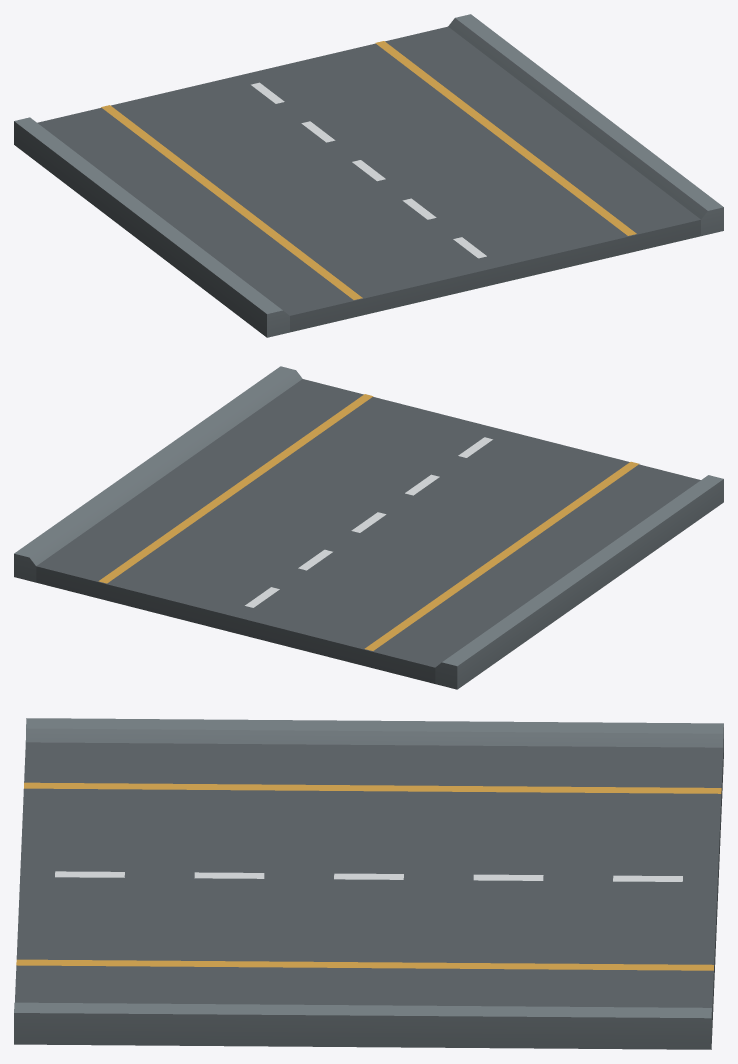
File: road_lev3.glb
The picture shows the model from 3 angles, top to bottom: view 1: azimuth 30°, elevation 25°; view 2: azimuth 150°, elevation 25°; view 3: azimuth 270°, elevation 25°; orthographic projection. The views are drawn at different scales.
Parts seen in each view (by area): view 1: road_straight; view 2: road_straight; view 3: road_straight.
Boxes of the visible parts, x1,y1,x2,y2 form: road_straight: (14,14,723,337); road_straight: (14,366,723,689); road_straight: (14,718,723,1049).
Size of the model in its own units: 18.95 by 0.9312 by 18.95.
Materials: 1 (1 with a texture image).
